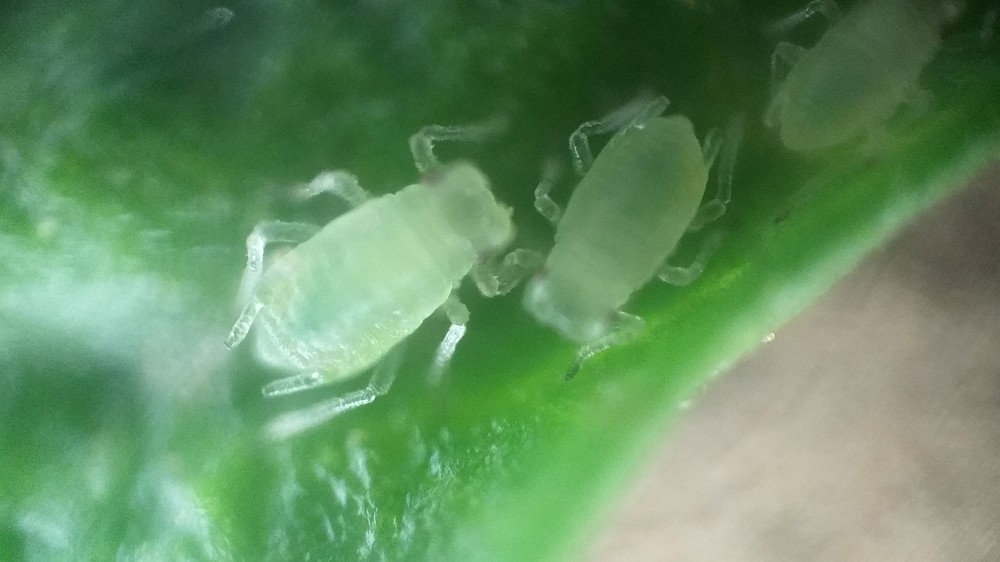Pulgon: (208, 106, 530, 456), (510, 73, 748, 401), (748, 1, 993, 203)
